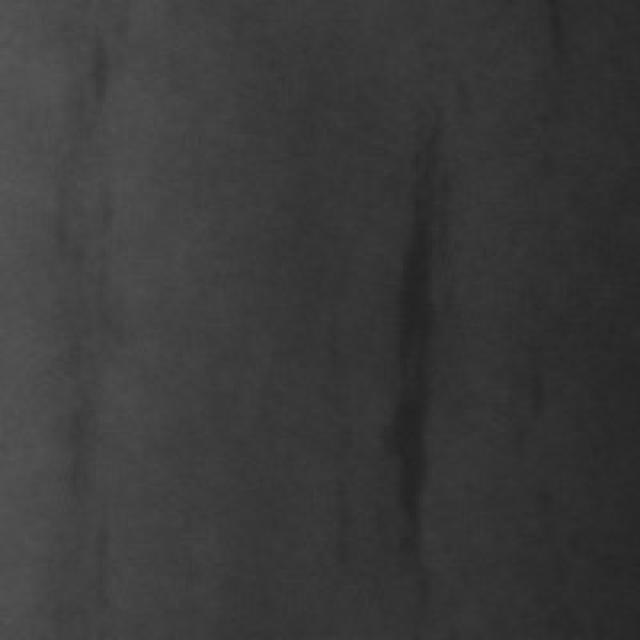inclusion: (39, 122, 138, 611), (355, 86, 451, 576), (58, 10, 128, 134), (534, 0, 573, 115)
